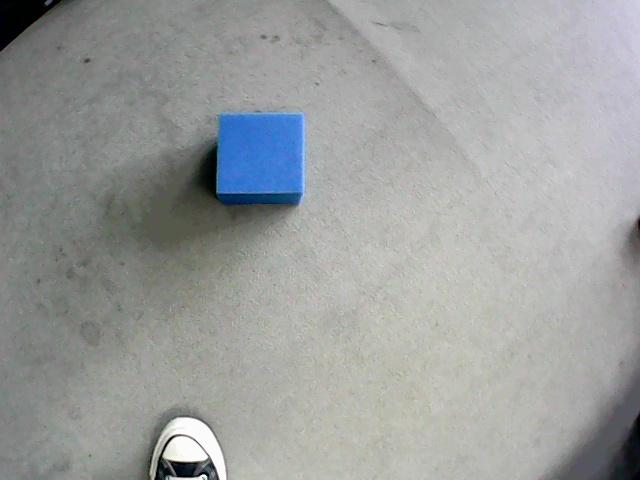blue_block: (217, 113, 304, 204)
